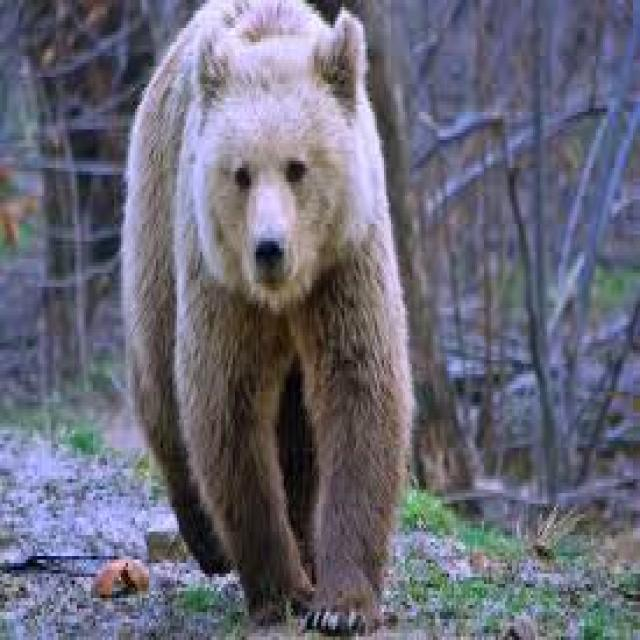bear: (121, 0, 412, 630)
